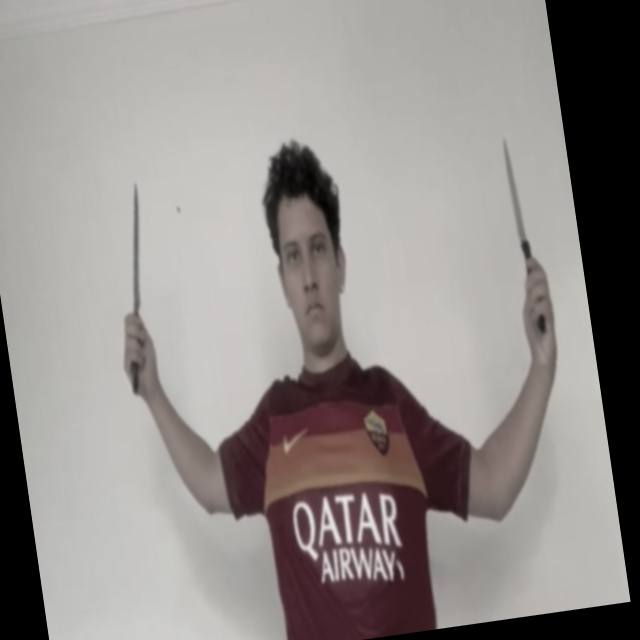Sharp-Object: (118, 178, 155, 313), (500, 131, 528, 245)
